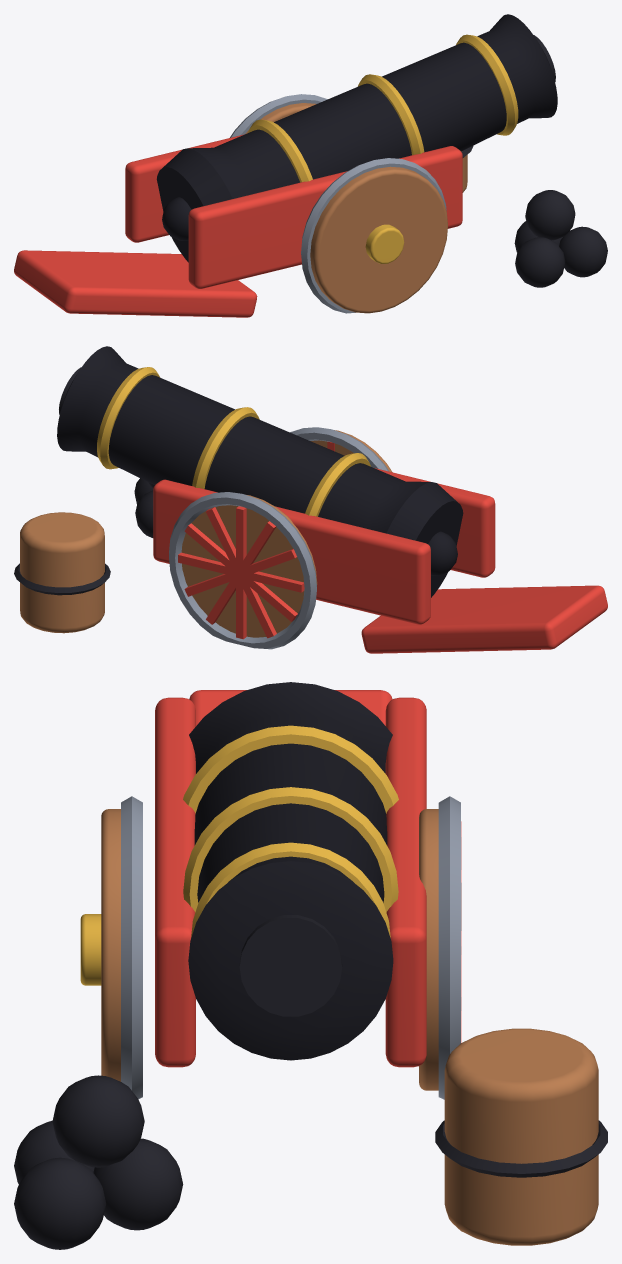
Rendered from cannon.glb.
The picture shows the model from 3 angles, top to bottom: view 1: azimuth 30°, elevation 25°; view 2: azimuth 150°, elevation 25°; view 3: azimuth 270°, elevation 25°; orthographic projection. The views are drawn at different scales.
Visible parts, largest first — view 1: cannon; view 2: cannon; view 3: cannon.
Boxes of the visible parts, left/top/right/bottom form: cannon: left=14, top=14, right=607, bottom=317; cannon: left=14, top=346, right=607, bottom=653; cannon: left=14, top=682, right=607, bottom=1249.
Size of the model in its own units: 4.15 by 1.65 by 2.32.
Materials: 1 (1 with a texture image).
